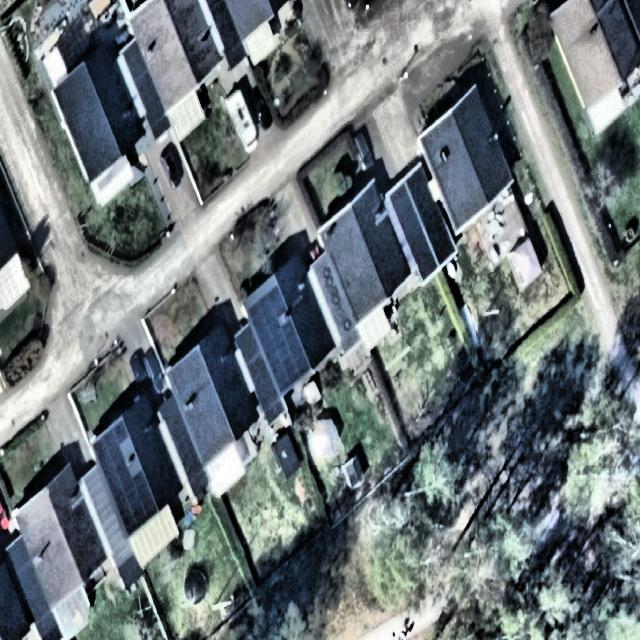roof_pv: (254, 319, 312, 385), (110, 474, 160, 536), (92, 421, 130, 463), (247, 287, 287, 319), (99, 463, 131, 474)
